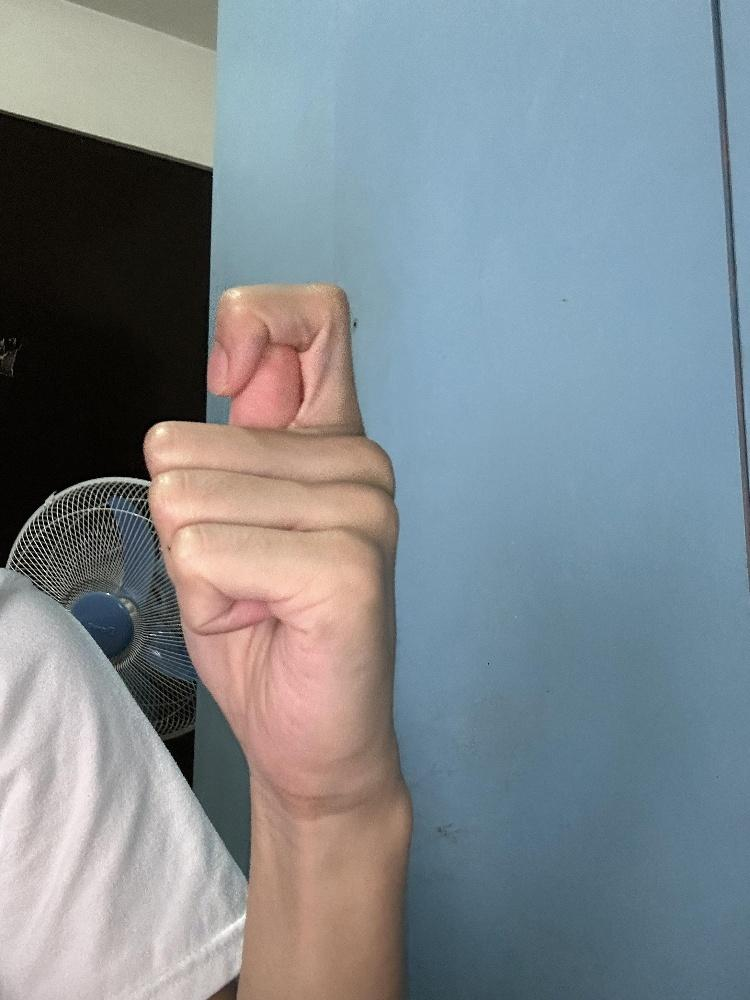t: (135, 276, 405, 807)
